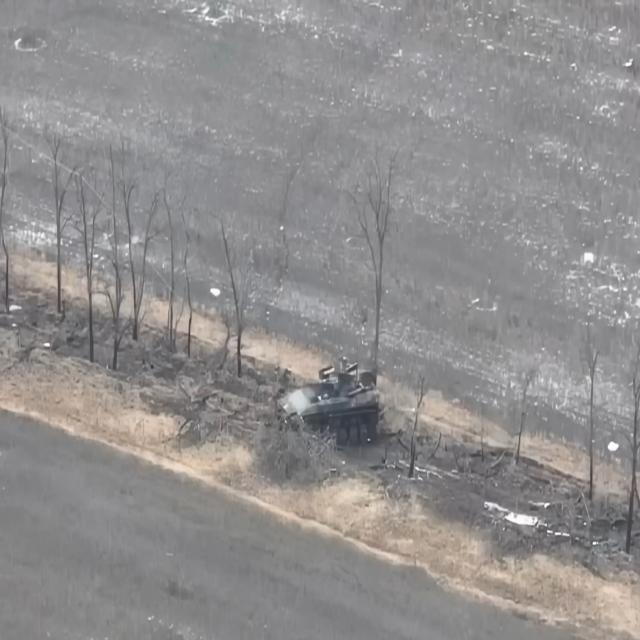AIFV: (280, 365, 382, 451)
